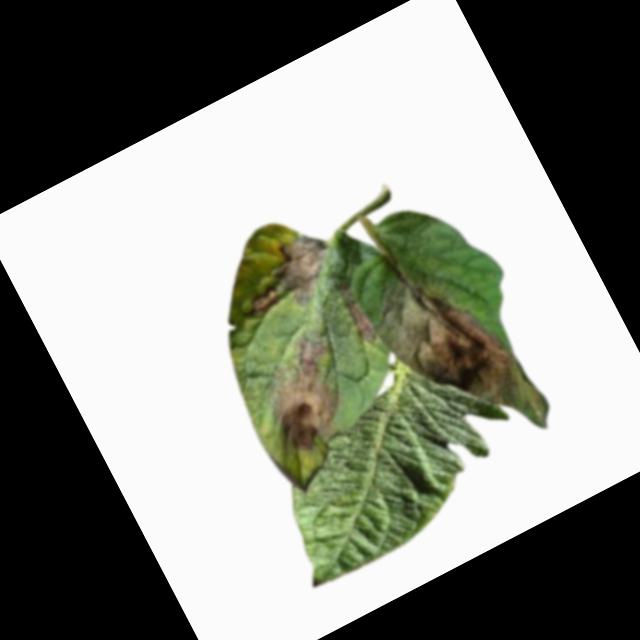Late_blight: (357, 231, 556, 467), (243, 324, 368, 461), (221, 221, 349, 334), (343, 295, 382, 350)
healthy: (247, 342, 541, 592)
